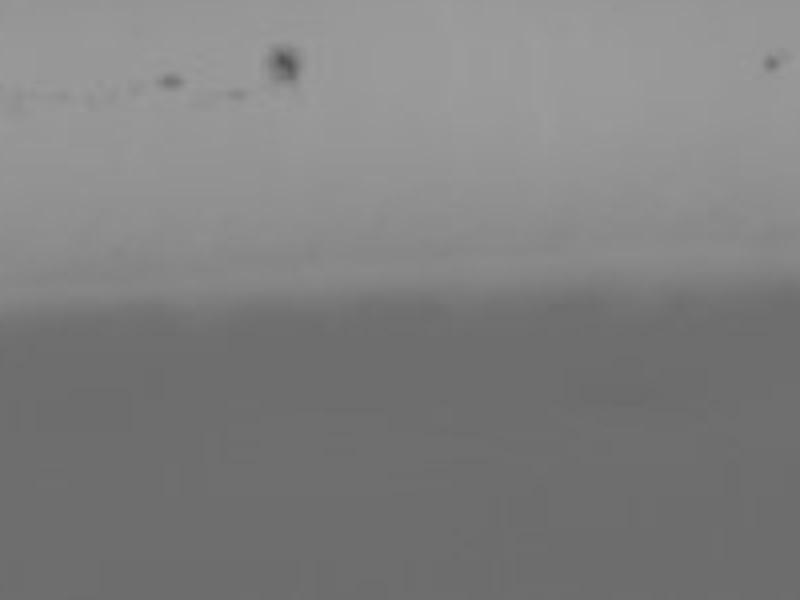defect: (267, 44, 302, 83), (128, 73, 152, 101), (80, 87, 104, 113), (761, 49, 783, 73), (159, 72, 183, 90), (226, 87, 251, 104)
